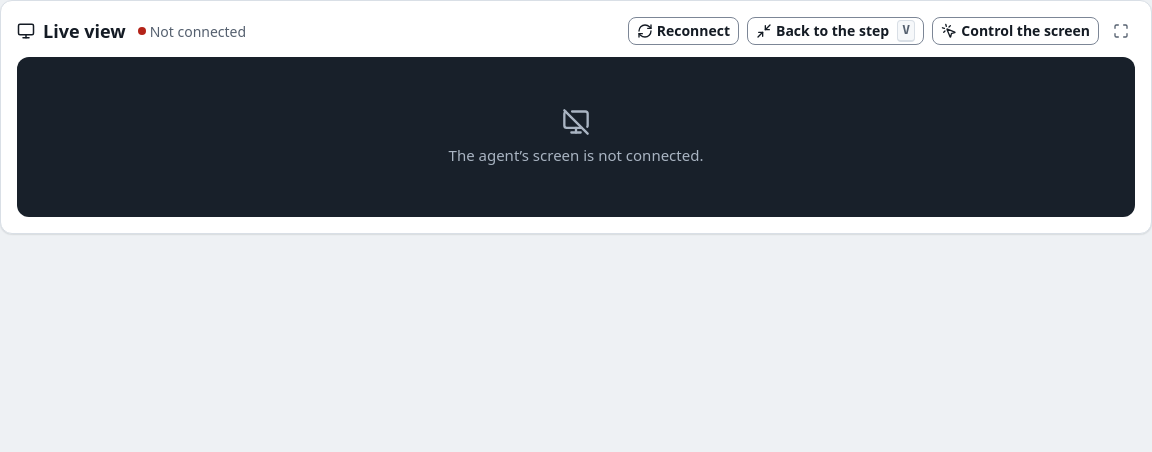
Test case: LiveView › ignores the late disconnect of a replaced client
The image size is (1152, 452).
Click the button "Reconnect": (683, 31) [628,17,739,45]
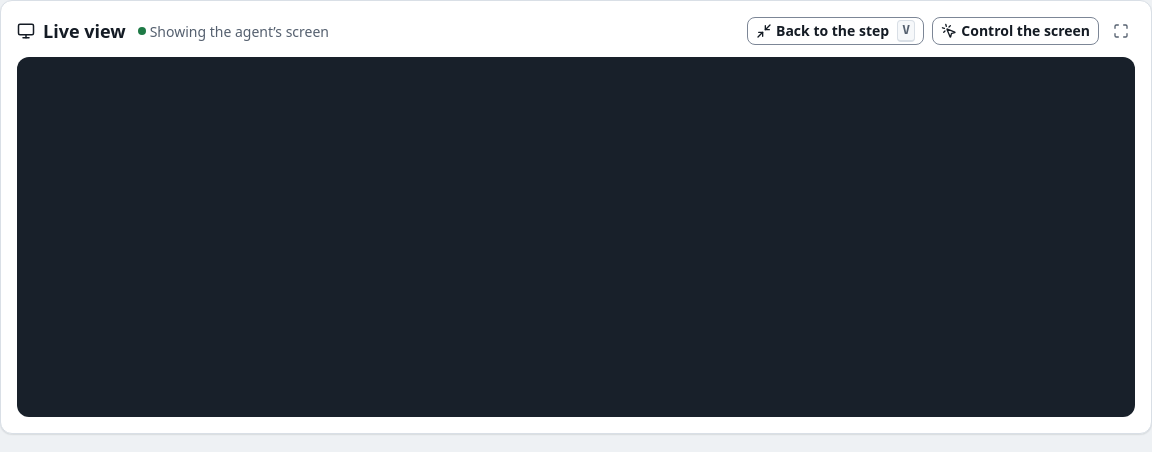
Result: the message reads "Showing the agent’s screen" at [150,22,329,40]
Result: the button "Reconnect" is gone
